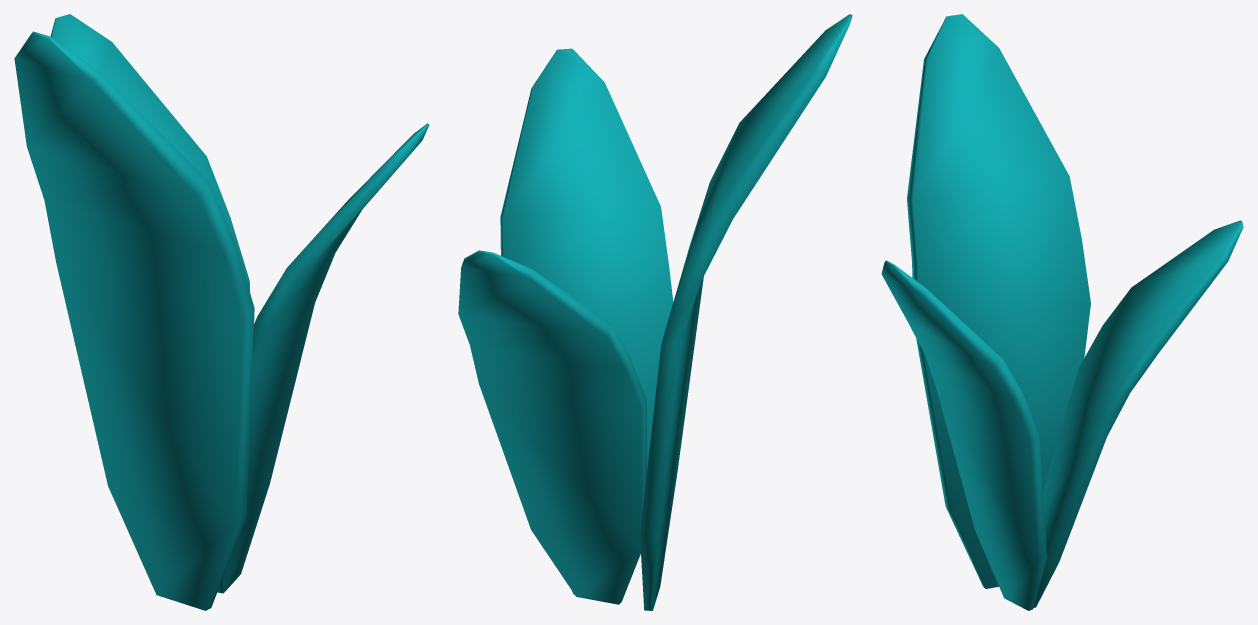
File: Grass_O.fbx
3 renders of one model, left to right at view 1: azimuth 30°, elevation 25°; view 2: azimuth 150°, elevation 25°; view 3: azimuth 270°, elevation 25°, orthographic. The views are drawn at different scales.
Visible parts, largest first — view 1: Grass_O; view 2: Grass_O; view 3: Grass_O.
Boxes of the visible parts, x1,y1,x2,y2 form: Grass_O: (14,14,429,610); Grass_O: (458,14,852,610); Grass_O: (881,14,1243,610).
Bounding box in the file's own units: 45.14 × 75.06 × 49.16.
